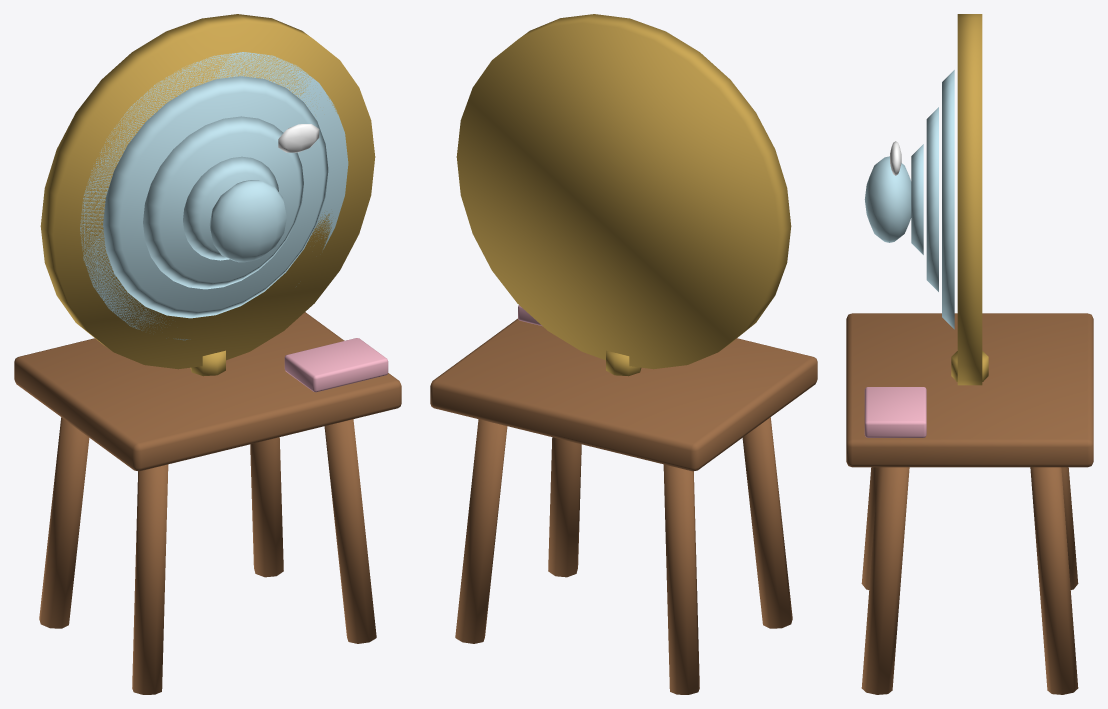
File: lighthouse-lens.glb
3 views of the same model, side by side, from view 1: azimuth 30°, elevation 25°; view 2: azimuth 150°, elevation 25°; view 3: azimuth 270°, elevation 25° (orthographic).
Visible parts, largest first — view 1: lens, stand; view 2: lens, stand; view 3: stand, lens.
Part boxes in pixels (left/top/right/bottom): lens: left=40, top=14, right=375, bottom=376; stand: left=14, top=312, right=401, bottom=694; lens: left=456, top=14, right=791, bottom=376; stand: left=430, top=305, right=817, bottom=694; stand: left=846, top=313, right=1093, bottom=694; lens: left=864, top=14, right=988, bottom=385.
Bounding box in the file's own units: 0.6 × 1.08 × 0.4.
